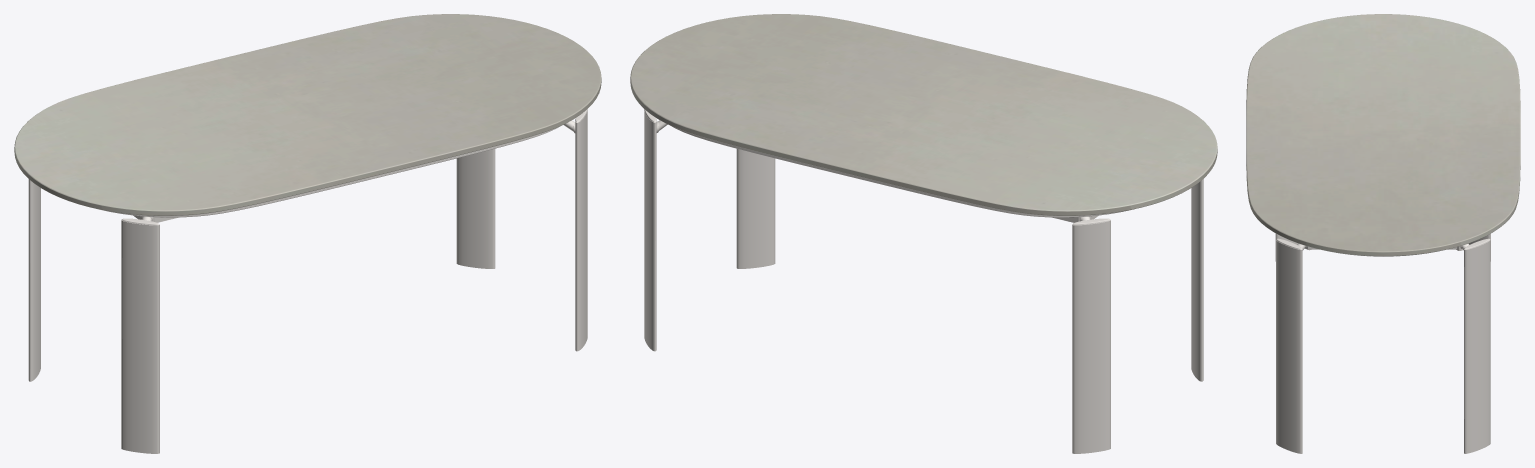
Rendered from BGID02455.glb.
3 renders of one model, left to right at view 1: azimuth 30°, elevation 25°; view 2: azimuth 150°, elevation 25°; view 3: azimuth 270°, elevation 25°, orthographic. The views are drawn at different scales.
Visible parts, largest first — view 1: BP_BGID02455; view 2: BP_BGID02455; view 3: BP_BGID02455.
Part boxes in pixels (x1,y1,x2,y2): BP_BGID02455: [14, 14, 601, 453]; BP_BGID02455: [630, 14, 1217, 453]; BP_BGID02455: [1246, 14, 1520, 453].
Bounding box in the file's own units: 1.74 × 0.7512 × 0.85.
3 materials, 1 textured.
